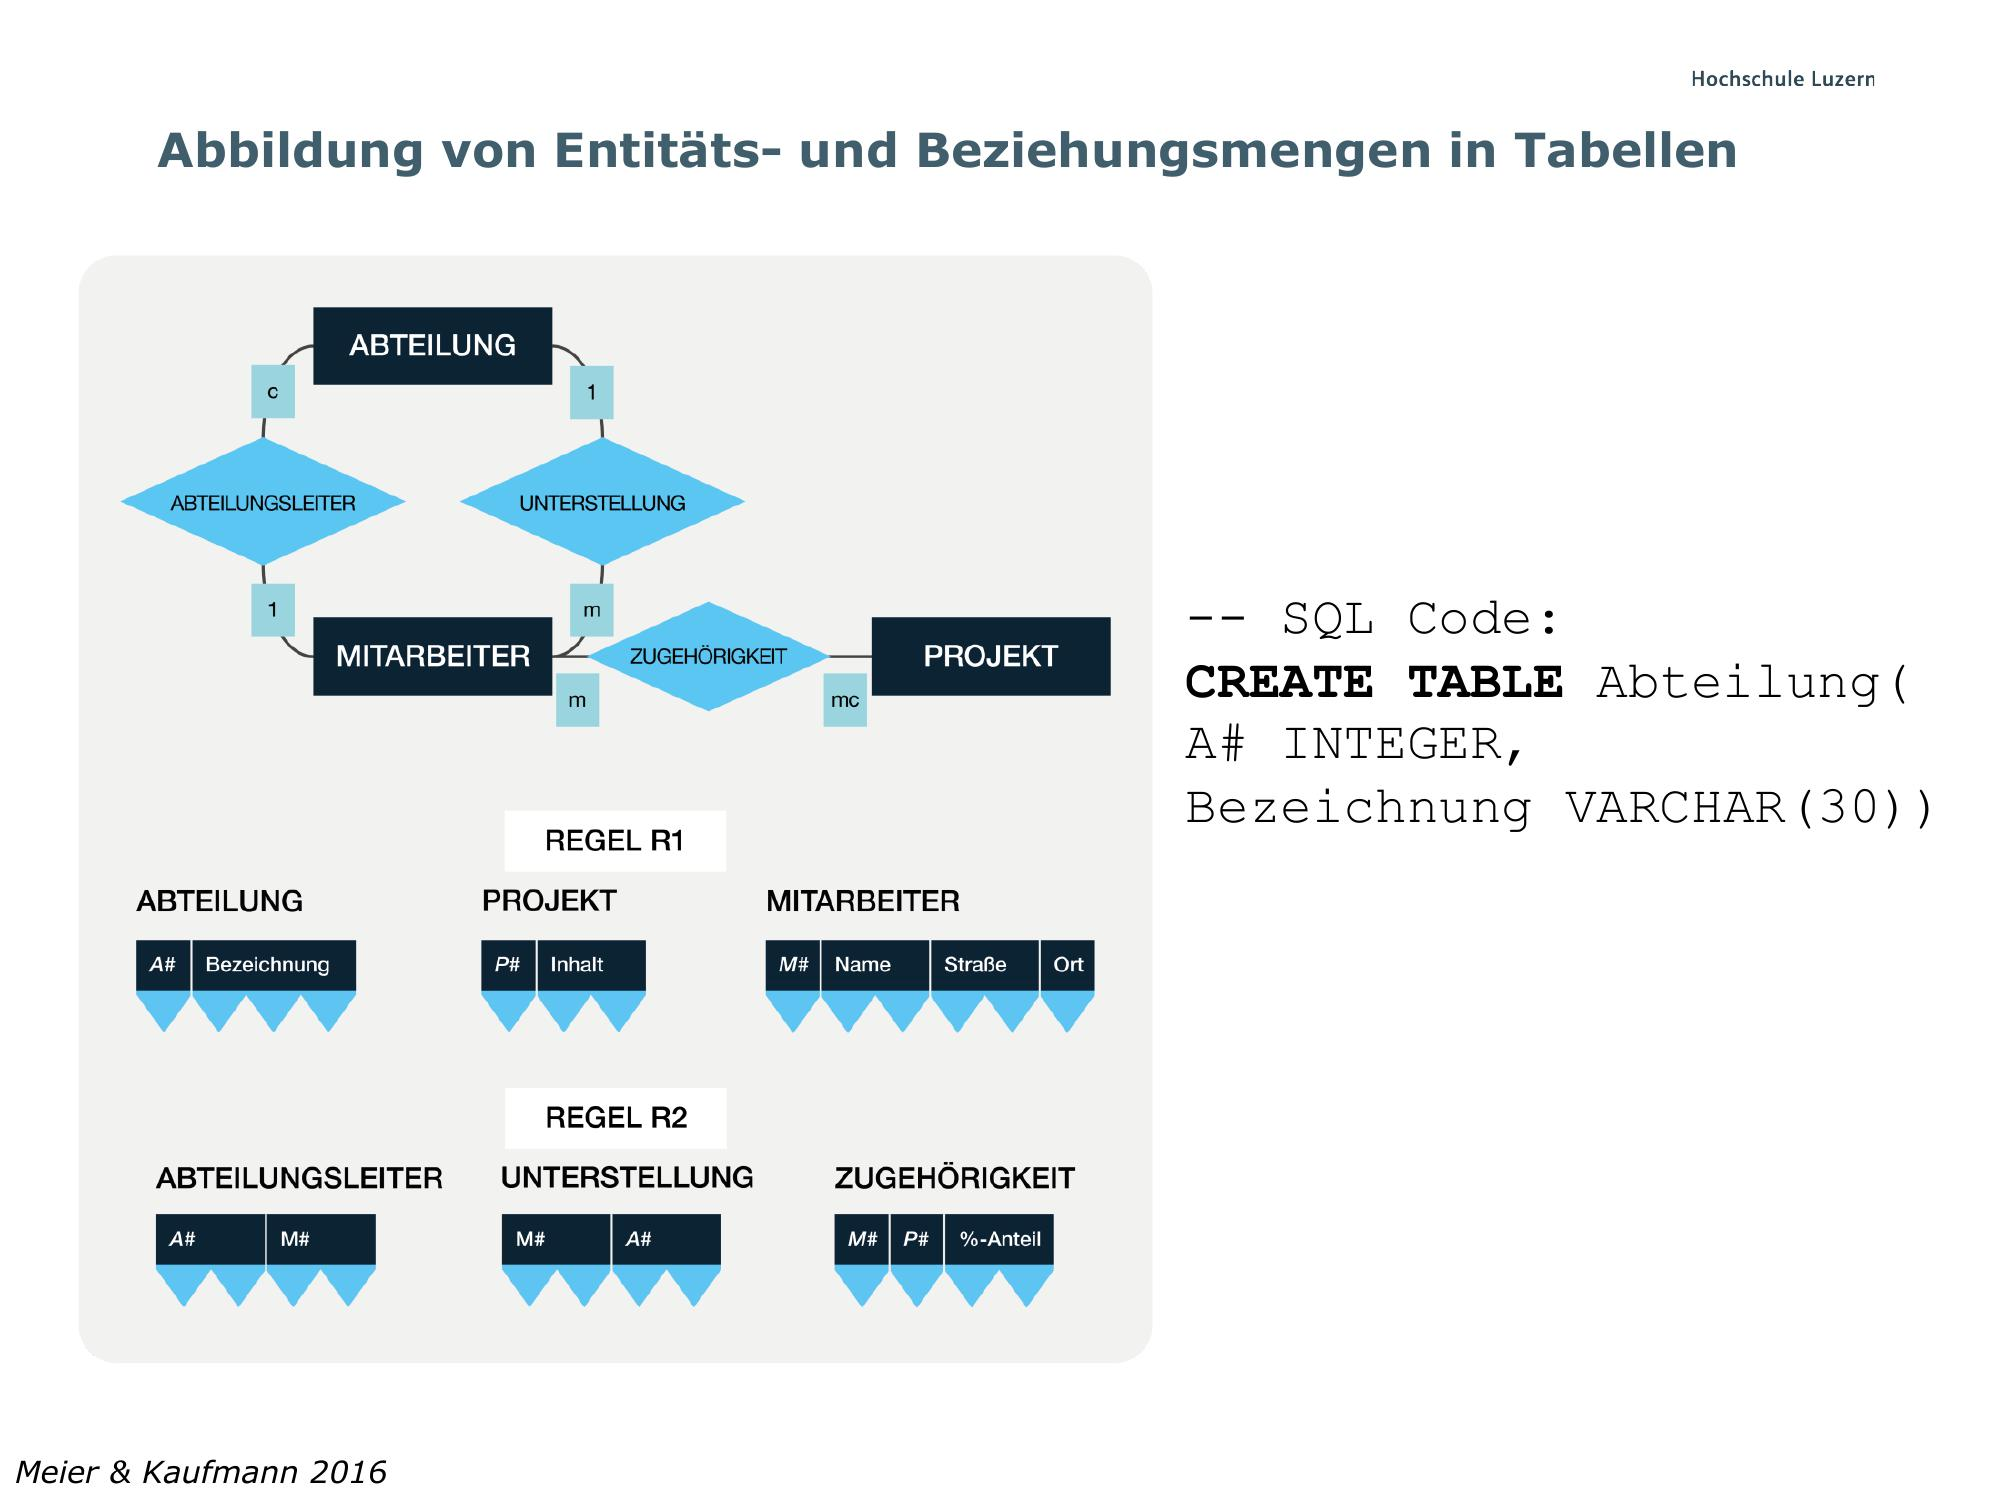Title: (142, 109, 1761, 191)
